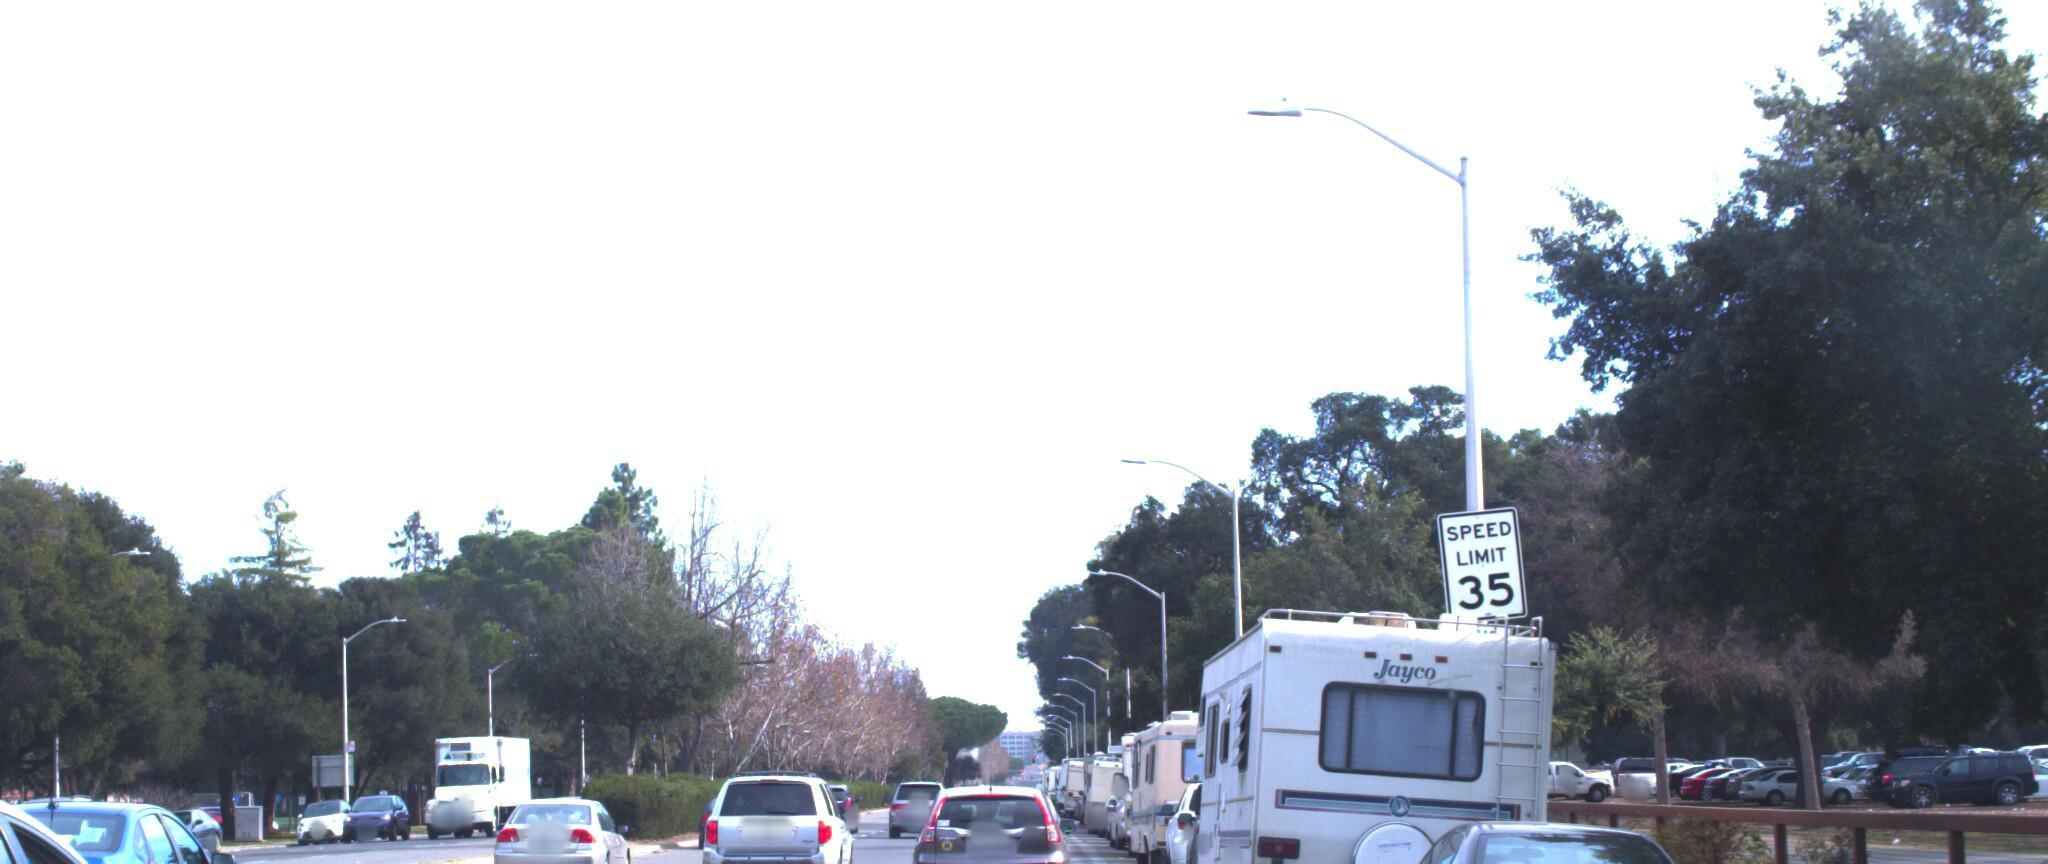car: (0, 747, 286, 864), (1352, 804, 1755, 864), (0, 791, 295, 864), (903, 761, 1079, 864), (699, 758, 863, 864), (1151, 765, 1290, 864), (482, 784, 643, 864)
other_vehicle: (1156, 587, 1610, 864), (1112, 697, 1300, 864)
